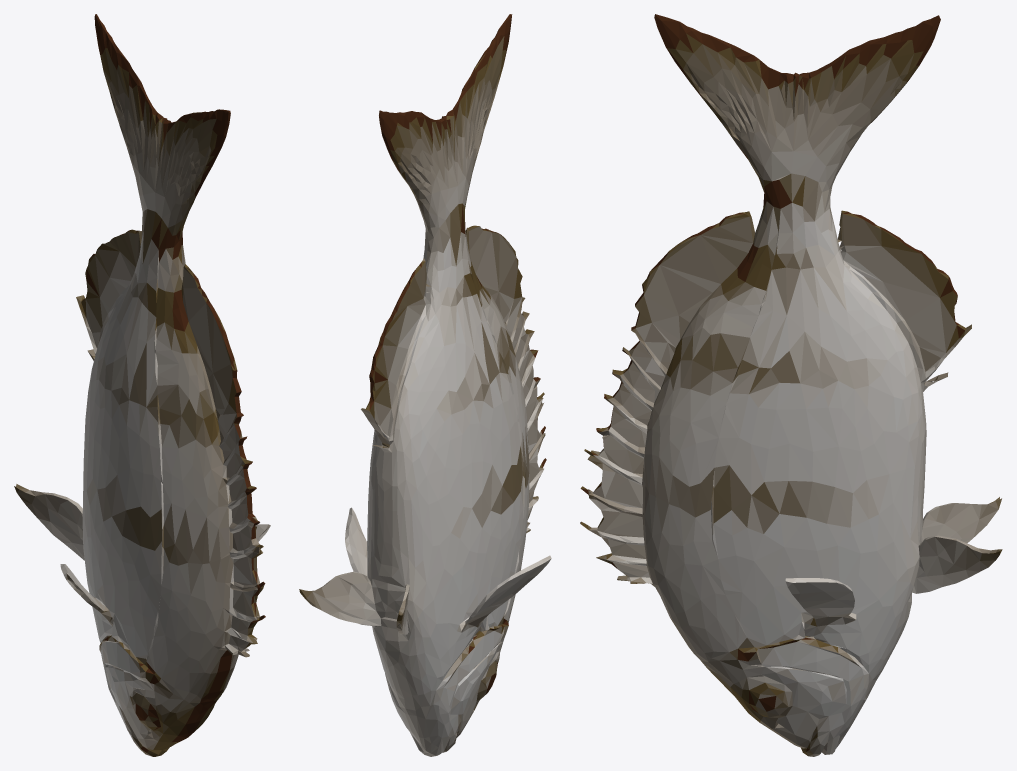
Rendered from Seabream.fbx.
3 views of the same model, side by side, from view 1: azimuth 30°, elevation 25°; view 2: azimuth 150°, elevation 25°; view 3: azimuth 270°, elevation 25° (orthographic). The views are drawn at different scales.
Parts seen in each view (by area): view 1: source; view 2: source; view 3: source.
Part boxes in pixels (x1,y1,x2,y2): source: (14,14,270,756); source: (299,14,551,756); source: (580,14,1002,756).
Size of the model in its own units: 3096 by 10002 by 5177.
